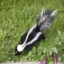skunk: (15, 8, 60, 55)
